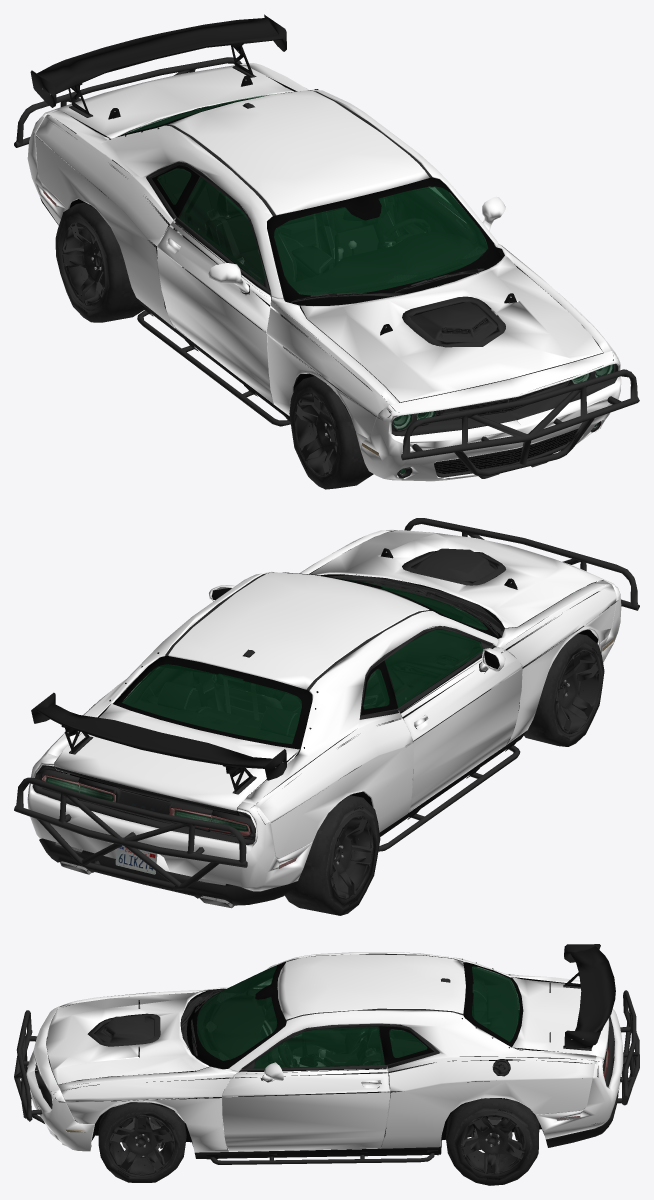
Rendered from muscle-lod.glb.
The picture shows the model from 3 angles, top to bottom: view 1: azimuth 30°, elevation 25°; view 2: azimuth 150°, elevation 25°; view 3: azimuth 270°, elevation 25°; orthographic projection. The views are drawn at different scales.
Visible parts, largest first — view 1: Object_60, Object_20, Object_63, Object_71, Object_48, Object_87, Object_24, Object_16, Object_52; view 2: Object_60, Object_20, Object_63, Object_71, Object_87, Object_48, Object_16, Object_52, Object_56; view 3: Object_60, Object_63, Object_20, Object_87, Object_71, Object_48, Object_16.
Boxes of the visible parts, bbox=[...] form: Object_60: bbox=[32, 63, 619, 420]; Object_20: bbox=[14, 14, 639, 478]; Object_63: bbox=[27, 65, 621, 481]; Object_71: bbox=[124, 93, 613, 474]; Object_48: bbox=[149, 118, 488, 388]; Object_87: bbox=[55, 202, 373, 489]; Object_24: bbox=[434, 318, 577, 473]; Object_16: bbox=[57, 76, 613, 477]; Object_52: bbox=[43, 121, 613, 474]; Object_60: bbox=[34, 529, 619, 891]; Object_20: bbox=[14, 518, 639, 908]; Object_63: bbox=[27, 535, 621, 887]; Object_71: bbox=[45, 555, 574, 831]; Object_87: bbox=[285, 633, 604, 915]; Object_48: bbox=[124, 583, 487, 806]; Object_16: bbox=[54, 530, 608, 881]; Object_52: bbox=[42, 553, 614, 885]; Object_56: bbox=[115, 845, 157, 874]; Object_60: bbox=[33, 952, 609, 1152]; Object_63: bbox=[26, 974, 623, 1151]; Object_20: bbox=[14, 944, 639, 1164]; Object_87: bbox=[98, 1098, 539, 1185]; Object_71: bbox=[55, 966, 606, 1101]; Object_48: bbox=[197, 966, 518, 1098]; Object_16: bbox=[46, 966, 603, 1150].
Size of the model in its own units: 0.0217 by 0.0149 by 0.0527.
20 materials, 11 textured.
